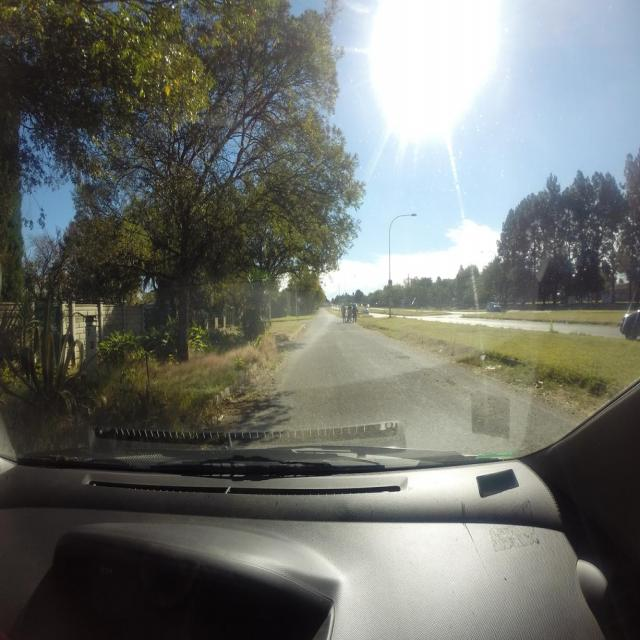Pothole: (445, 379, 456, 386), (396, 356, 410, 360)
